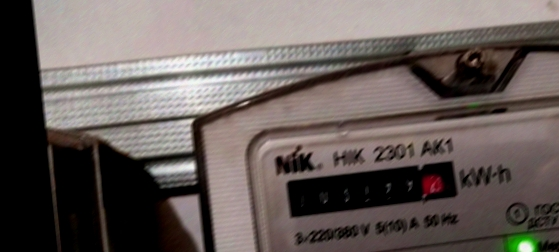0: (316, 184, 329, 205), (293, 188, 304, 207)
1: (360, 177, 370, 196)
3: (338, 182, 350, 203)
6: (426, 178, 438, 193)
9: (380, 174, 392, 195), (402, 173, 414, 192)
screen: (277, 150, 464, 223)
